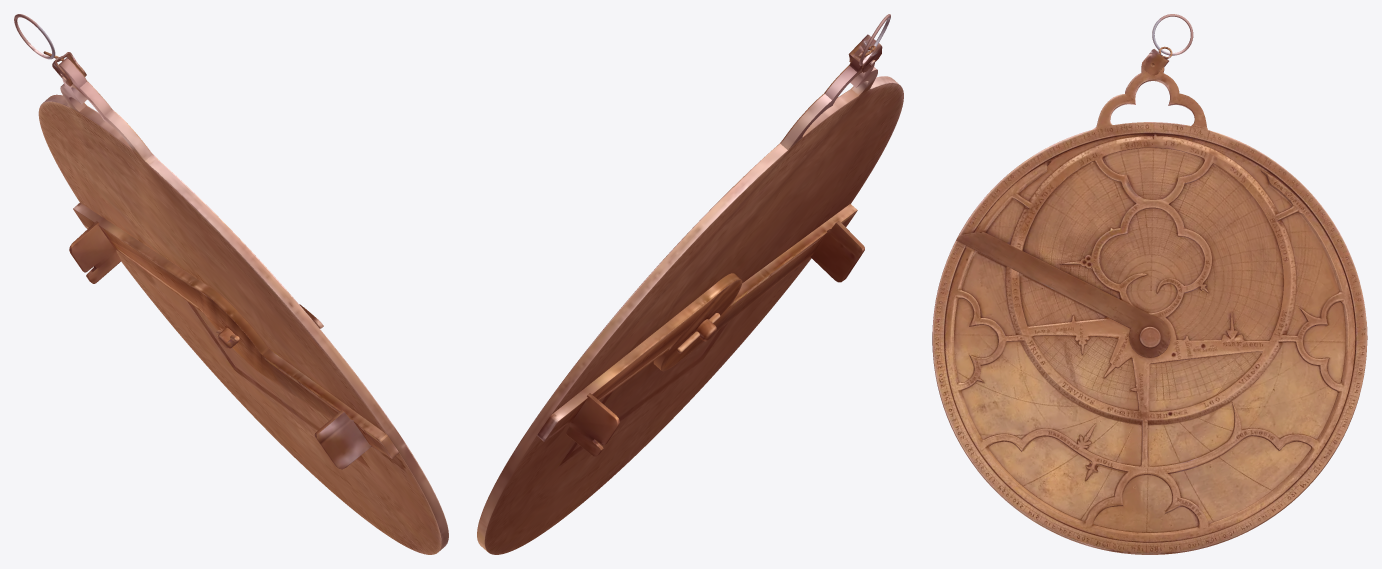
Rendered from astrolabe.glb.
3 views of the same model, side by side, from view 1: azimuth 30°, elevation 25°; view 2: azimuth 150°, elevation 25°; view 3: azimuth 270°, elevation 25° (orthographic). The views are drawn at different scales.
Parts seen in each view (by area): view 1: Object_3; view 2: Object_3; view 3: Object_3.
Part boxes in pixels (<box>): Object_3: <box>14,14,448,554</box>; Object_3: <box>477,14,903,554</box>; Object_3: <box>932,14,1367,554</box>.
Bounding box in the file's own units: 14.41 × 23.32 × 21.78.
1 material, 1 textured.
